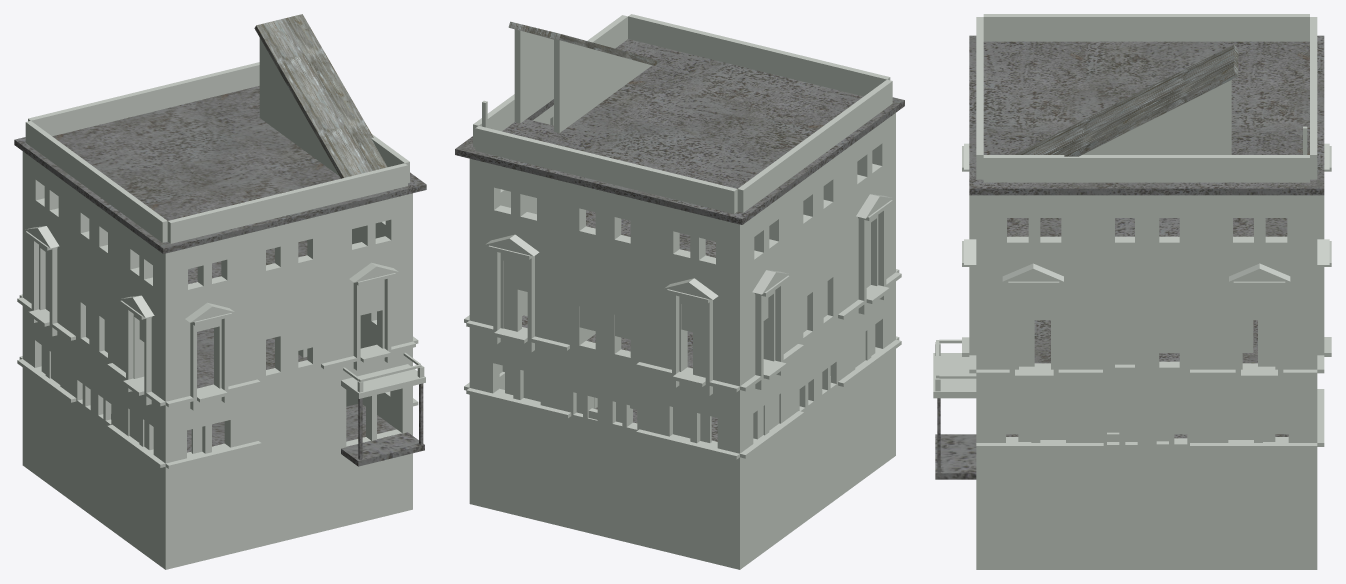
The model's file is BagBuilding1_140.fbx.
The picture shows the model from 3 angles, left to right: view 1: azimuth 30°, elevation 25°; view 2: azimuth 150°, elevation 25°; view 3: azimuth 270°, elevation 25°; orthographic projection. The views are drawn at different scales.
Visible parts, largest first — view 1: mainA140, floors140, shedroof140, porch140; view 2: mainA140, floors140, shedroof140; view 3: mainA140, floors140, shedroof140, porch140.
Part boxes in pixels (x1,y1,x2,y2): mainA140: (17, 38, 425, 569); floors140: (14, 86, 426, 452); shedroof140: (254, 14, 387, 178); porch140: (341, 383, 424, 466); mainA140: (464, 14, 901, 569); floors140: (455, 39, 904, 441); shedroof140: (508, 21, 660, 65); mainA140: (933, 14, 1331, 569); floors140: (969, 35, 1324, 438); shedroof140: (1015, 44, 1238, 156); porch140: (935, 398, 976, 479).
Size of the model in its own units: 15.92 by 23.64 by 17.16.
